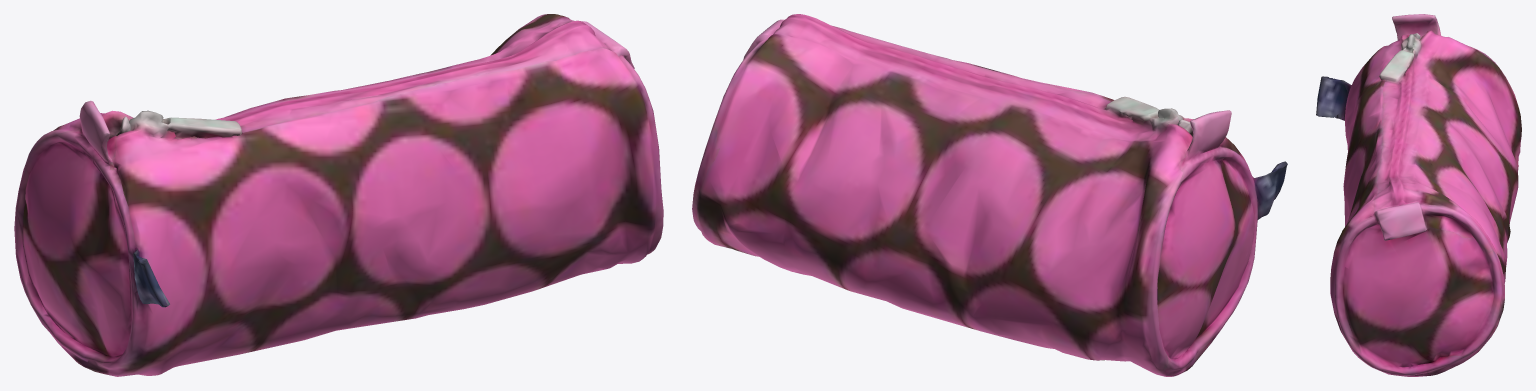
The model's file is Big_Dot_Pink_Pencil_Case-high.glb.
The picture shows the model from 3 angles, left to right: view 1: azimuth 30°, elevation 25°; view 2: azimuth 150°, elevation 25°; view 3: azimuth 270°, elevation 25°; orthographic projection. The views are drawn at different scales.
Visible parts, largest first — view 1: Big_Dot_Pink_Pencil_Case; view 2: Big_Dot_Pink_Pencil_Case; view 3: Big_Dot_Pink_Pencil_Case.
Part boxes in pixels (left/top/right/bottom): Big_Dot_Pink_Pencil_Case: left=14, top=14, right=663, bottom=376; Big_Dot_Pink_Pencil_Case: left=692, top=14, right=1287, bottom=376; Big_Dot_Pink_Pencil_Case: left=1316, top=14, right=1521, bottom=376.
Bounding box in the file's own units: 0.2136 × 0.1001 × 0.097.
1 material, 1 textured.
